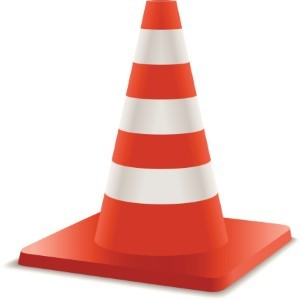traffic cone: (18, 1, 292, 292)
